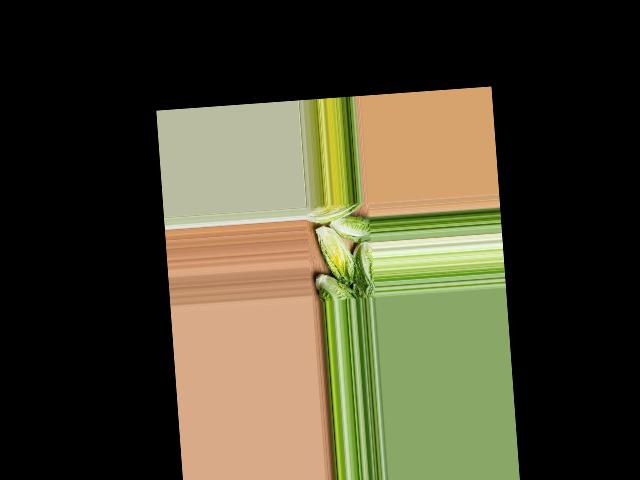lettuce: (306, 202, 362, 225)
